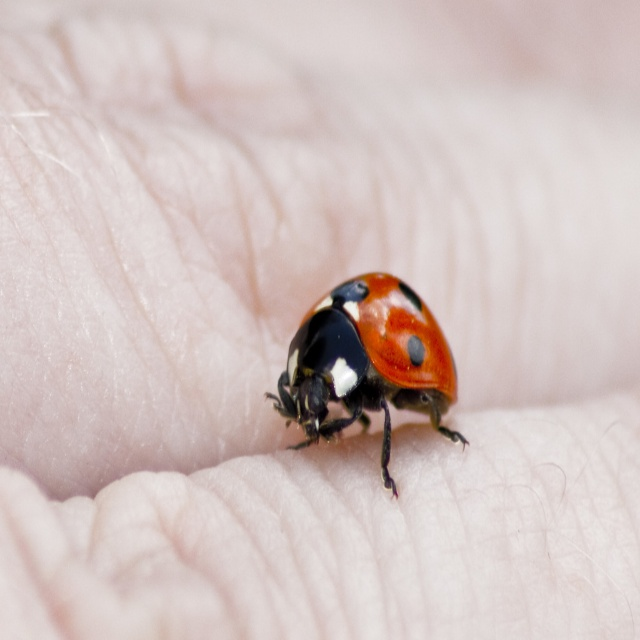Ladybug: (266, 271, 470, 497)
